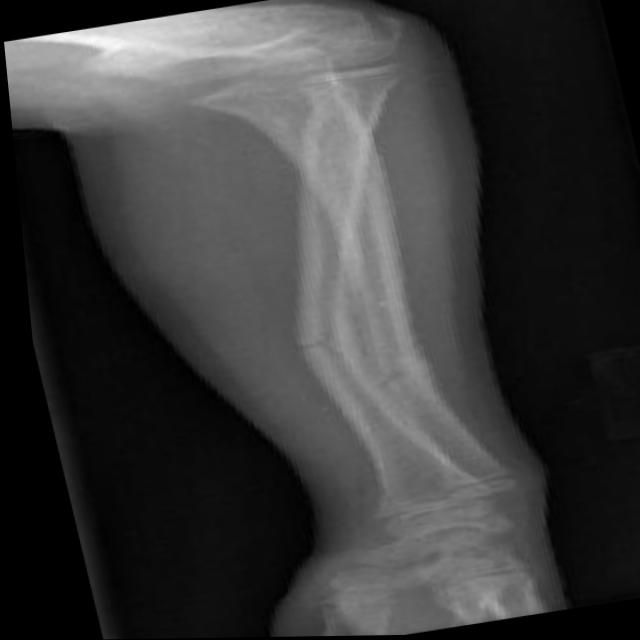fracture: (340, 351, 443, 405), (262, 329, 343, 364)
